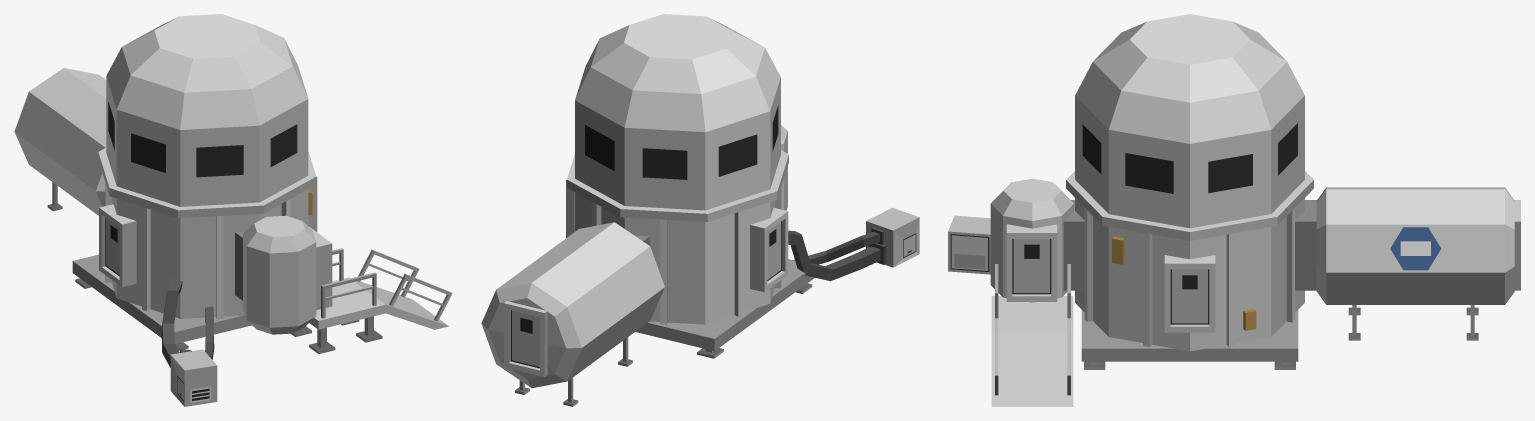
Rendered from SM_Bld_Bascamp_01.fbx.
3 renders of one model, left to right at view 1: azimuth 30°, elevation 25°; view 2: azimuth 150°, elevation 25°; view 3: azimuth 270°, elevation 25°, orthographic. The views are drawn at different scales.
Parts seen in each view (by area): view 1: SM_Bld_Bascamp_01; view 2: SM_Bld_Bascamp_01; view 3: SM_Bld_Bascamp_01.
Part boxes in pixels (x1=…): SM_Bld_Bascamp_01: x1=14, y1=14, x2=452, y2=406; SM_Bld_Bascamp_01: x1=481, y1=14, x2=919, y2=406; SM_Bld_Bascamp_01: x1=948, y1=14, x2=1520, y2=406.
Size of the model in its own units: 18.87 by 16.42 by 29.78.
